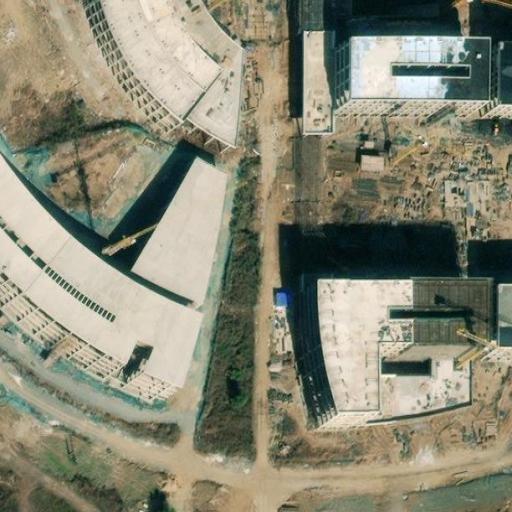building: (0, 186, 184, 409), (299, 291, 477, 425), (99, 0, 241, 149), (111, 172, 212, 328), (338, 48, 476, 111), (363, 355, 470, 425), (482, 283, 512, 356), (356, 149, 385, 170)
